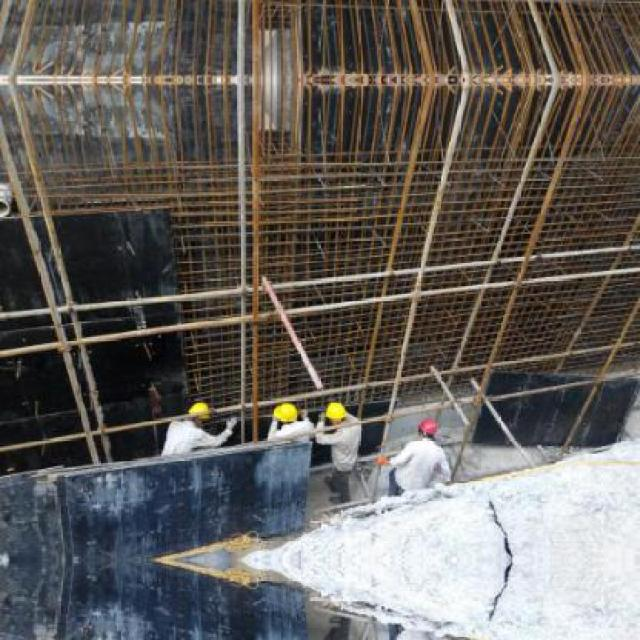helmet: (188, 400, 212, 428), (271, 402, 298, 426), (323, 401, 345, 427), (415, 418, 437, 440)
